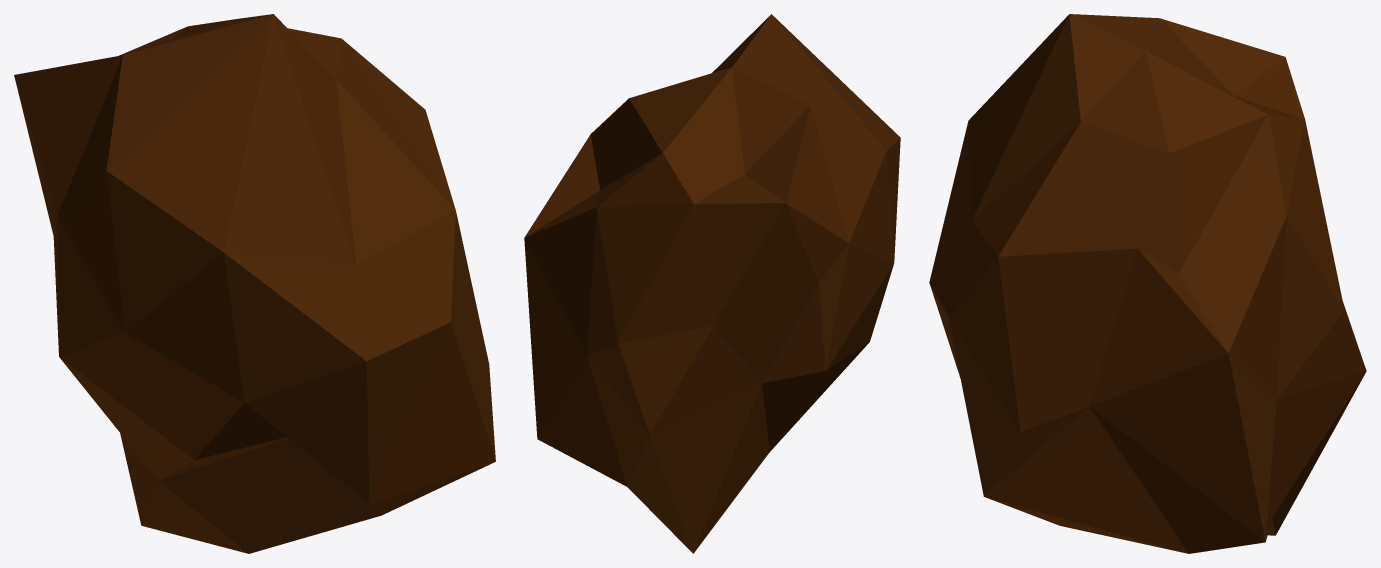
Rendered from Rock.FBX.
3 views of the same model, side by side, from view 1: azimuth 30°, elevation 25°; view 2: azimuth 150°, elevation 25°; view 3: azimuth 270°, elevation 25° (orthographic). The views are drawn at different scales.
Visible parts, largest first — view 1: GeoSphere001; view 2: GeoSphere001; view 3: GeoSphere001.
Part boxes in pixels (bbox=[...]): GeoSphere001: bbox=[14, 14, 495, 553]; GeoSphere001: bbox=[524, 14, 900, 553]; GeoSphere001: bbox=[929, 14, 1366, 553].
Bounding box in the file's own units: 75.48 × 112 × 84.25.
